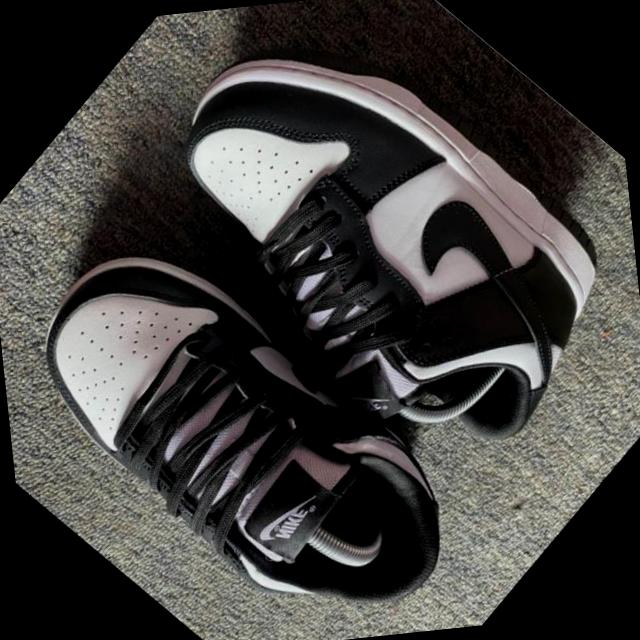nike_original_jordan: (87, 0, 640, 532), (0, 160, 513, 640)
